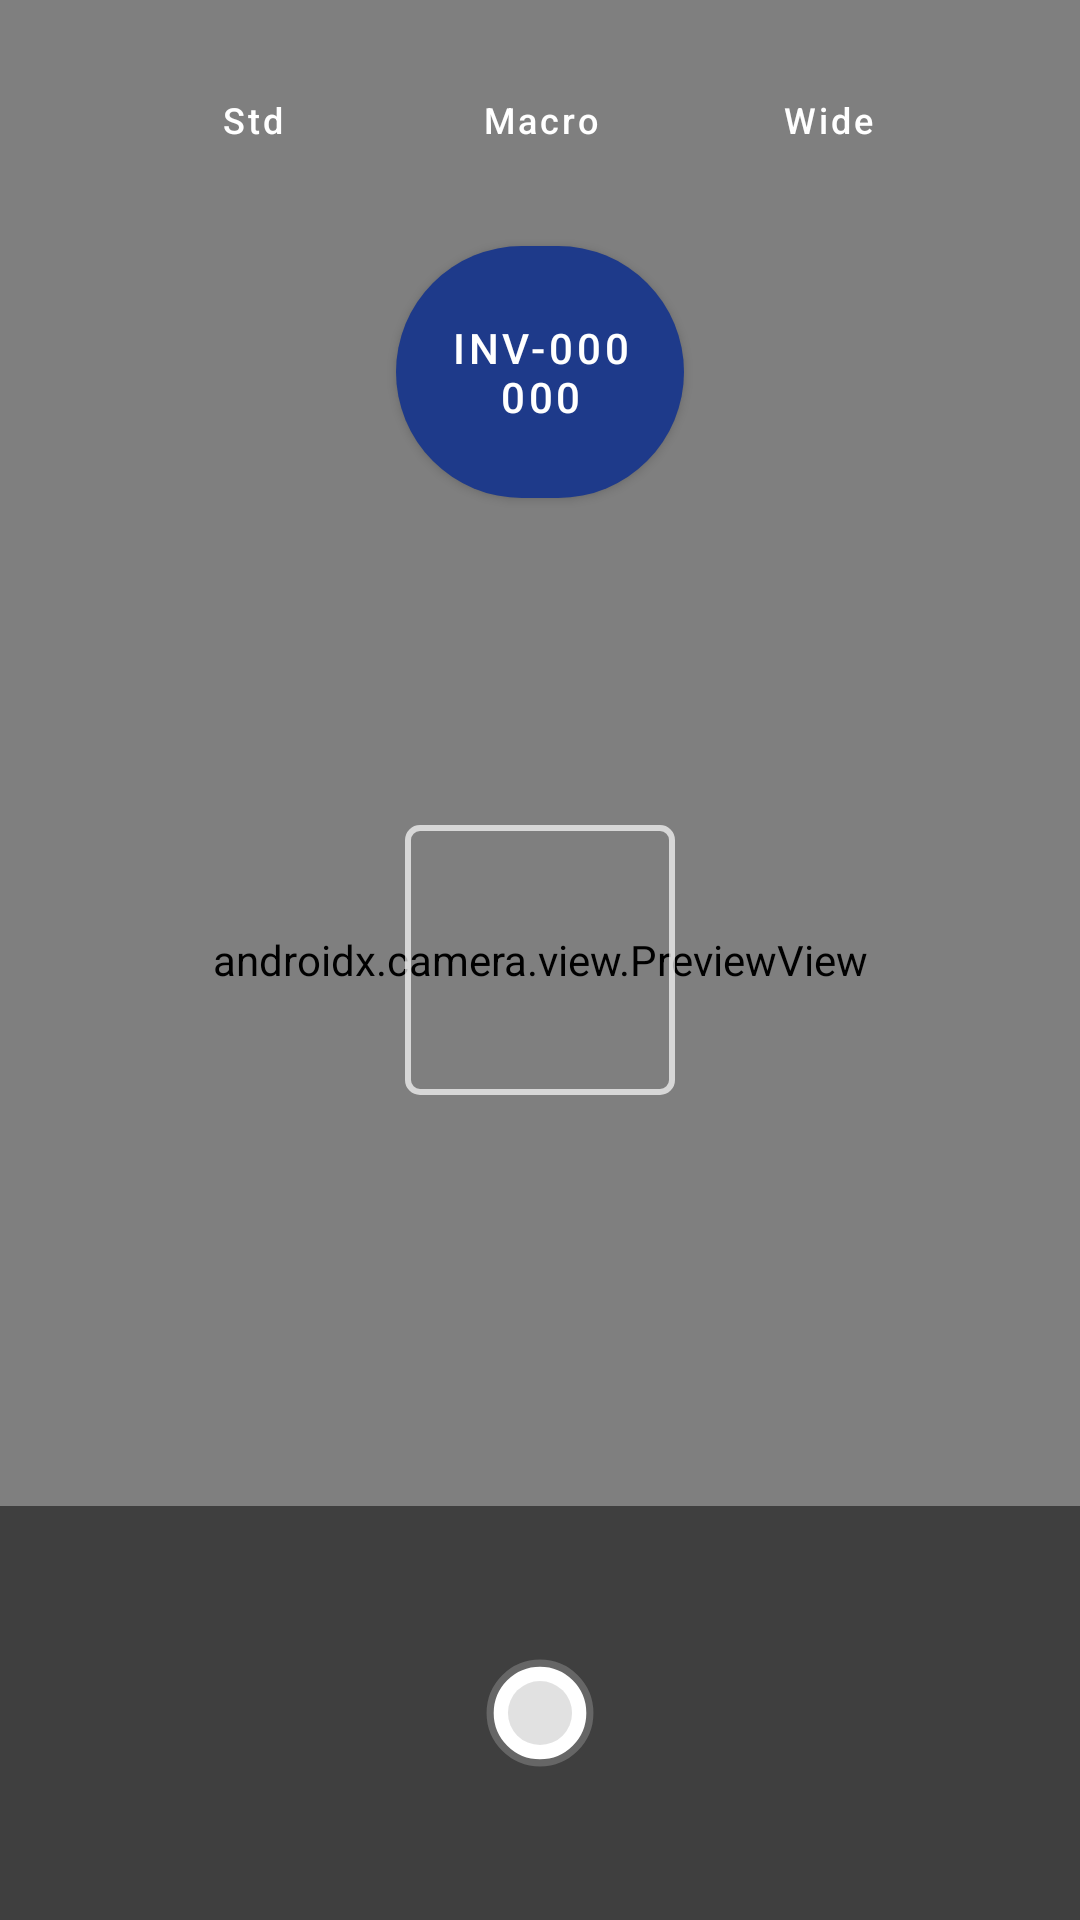

Icon bounding boxes for this 1080w x 1920h phone screenshot, format (x1, y1, x2, y2):
focus ring: (405, 825, 675, 1095)
Take Photo: (487, 1660, 593, 1766)
